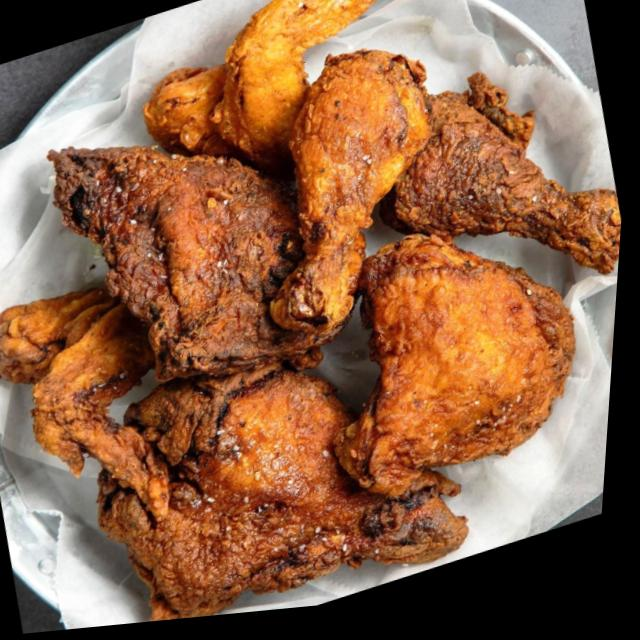fried_chicken: (67, 290, 489, 629), (27, 57, 375, 444), (288, 182, 614, 534), (216, 21, 478, 352), (357, 31, 634, 340), (0, 255, 212, 571), (121, 0, 438, 197)
